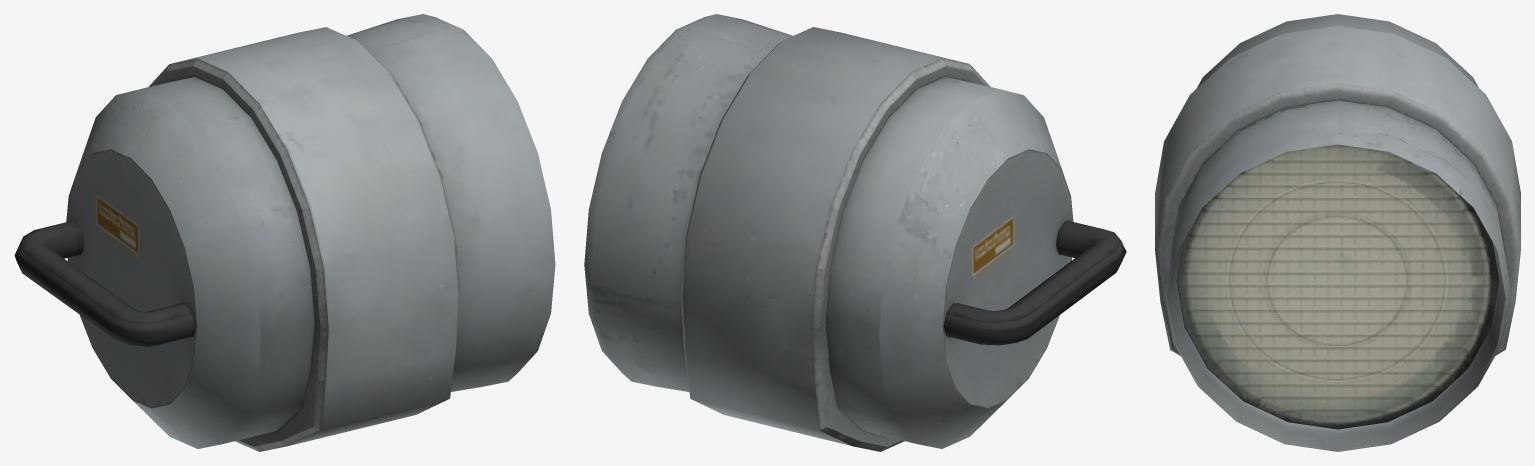
3 renders of one model, left to right at view 1: azimuth 30°, elevation 25°; view 2: azimuth 150°, elevation 25°; view 3: azimuth 270°, elevation 25°, orthographic. The views are drawn at different scales.
Parts seen in each view (by area): view 1: body0_model0_lod0_mesh0; view 2: body0_model0_lod0_mesh0; view 3: body0_model0_lod0_mesh0.
Part boxes in pixels (x1,y1,x2,y2): body0_model0_lod0_mesh0: [14, 14, 555, 451]; body0_model0_lod0_mesh0: [584, 14, 1126, 451]; body0_model0_lod0_mesh0: [1155, 14, 1520, 451].
Bounding box in the file's own units: 22.81 × 19.89 × 19.69.
1 material, 1 textured.
